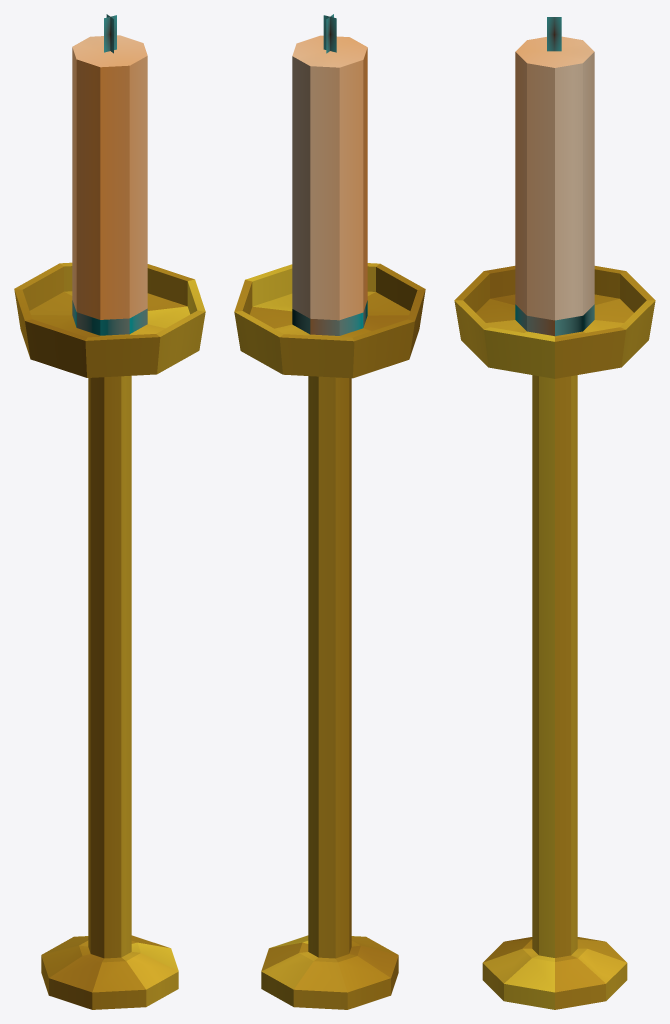
Rendered from Candle_336x13.obj.
3 views of the same model, side by side, from view 1: azimuth 30°, elevation 25°; view 2: azimuth 150°, elevation 25°; view 3: azimuth 270°, elevation 25° (orthographic).
Parts seen in each view (by area): view 1: Candle_336x13; view 2: Candle_336x13; view 3: Candle_336x13.
Boxes of the visible parts, x1=… form: Candle_336x13: x1=14, y1=14, x2=205, y2=1009; Candle_336x13: x1=234, y1=14, x2=425, y2=1009; Candle_336x13: x1=454, y1=17, x2=655, y2=1009.
Size of the model in its own units: 0.3725 by 2.02 by 0.3821.
